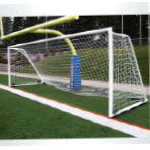goals: (5, 26, 150, 118)
